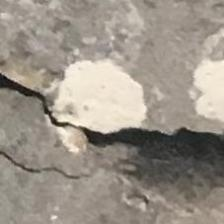Crack: (0, 59, 224, 218)
